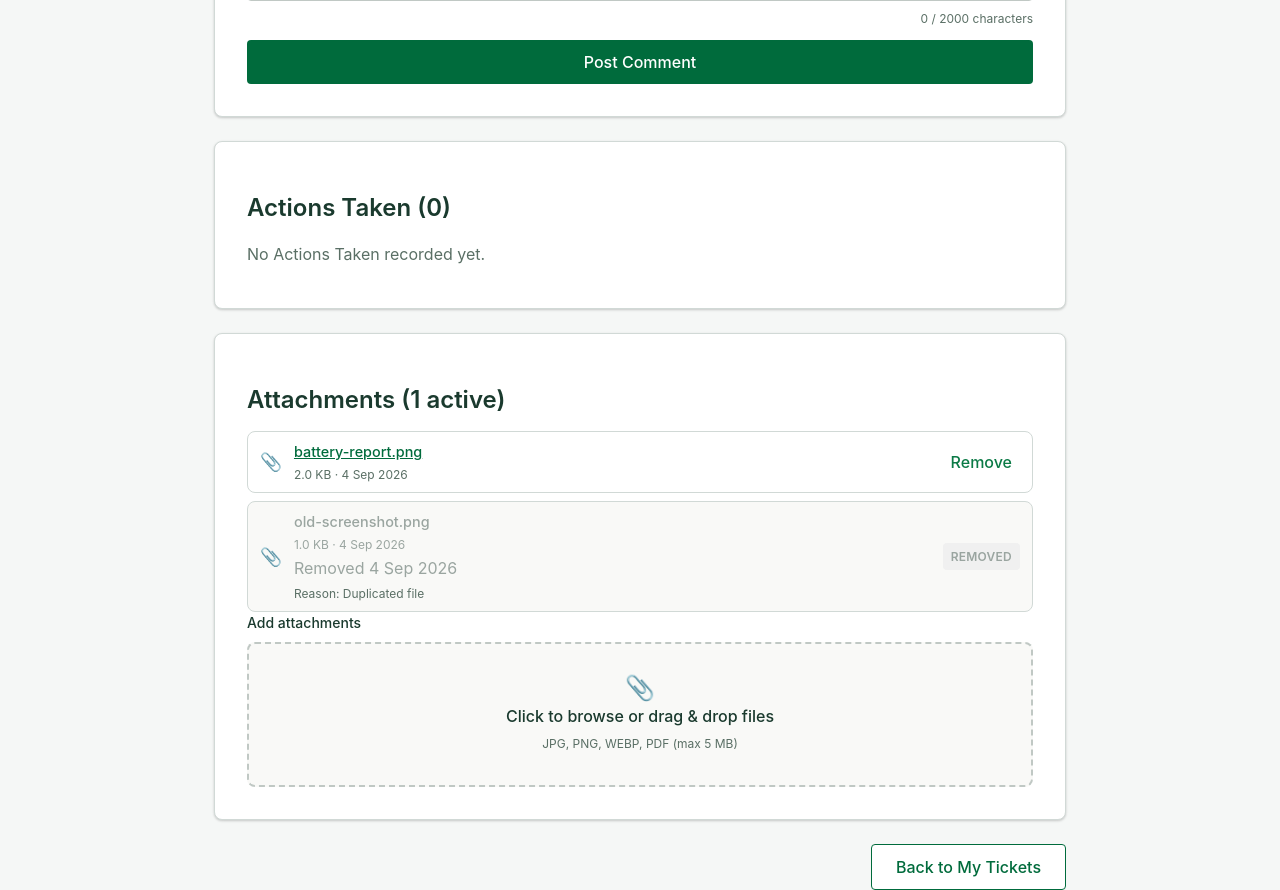
it: Requester regression under session identity (UI-10 - AC-20) › removes an attachment on the detail and shows the muted removed row
(page scrolled)
Expected: the heading with test id "attachment-count" reads "Attachments (1 active)", 247,385 -> 505,414
Expected: the list item with test id "attachment-removed-52" is shown, 247,501 -> 1033,612
Step 1. Click the button with test id "remove-attachment-btn" → [981, 462], box 943,448 -> 1020,476
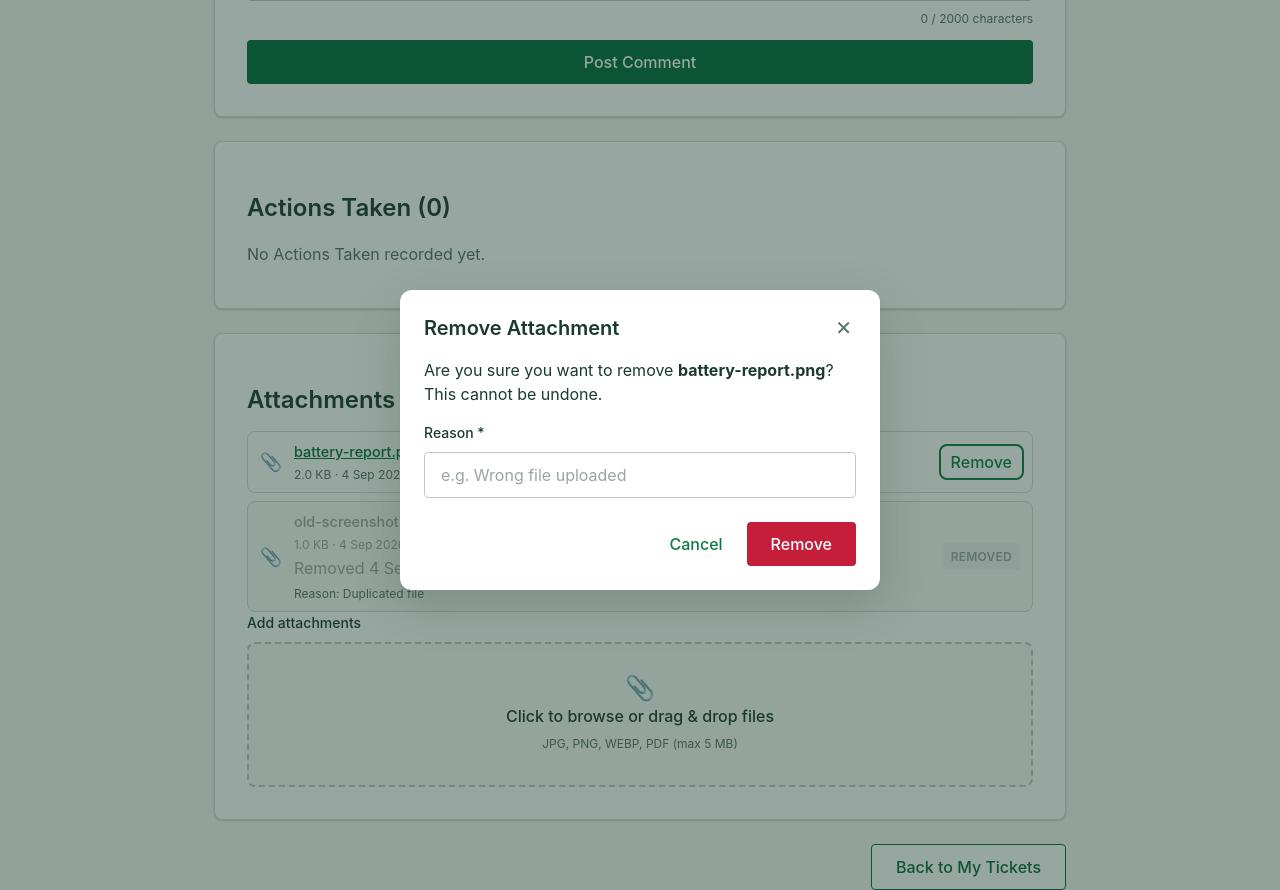
Step 2. Type "Duplicated file" into the field with test id "removal-reason" → [640, 475], box 424,452 -> 856,498
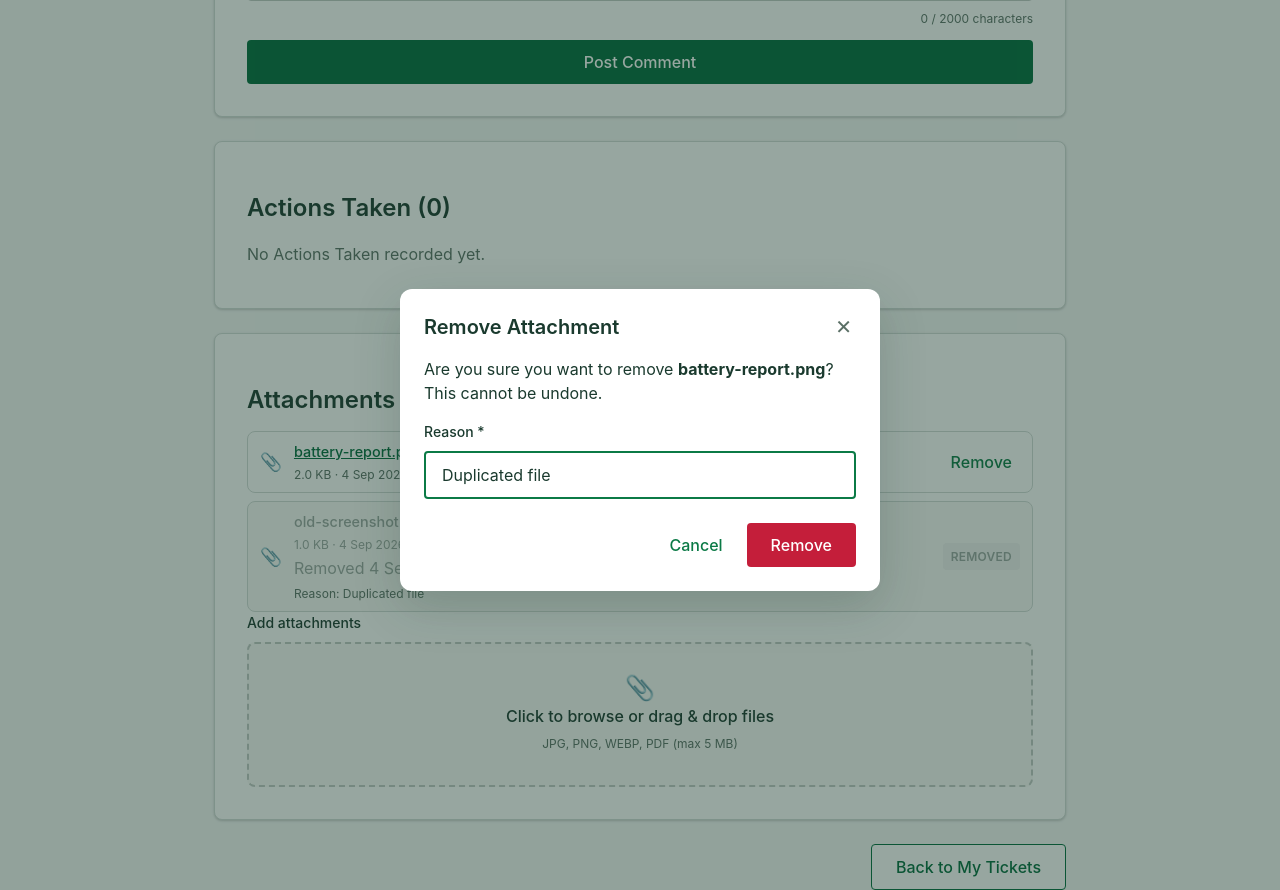
Step 3. Click the button with test id "confirm-remove-btn" → [801, 545], box 747,523 -> 856,567
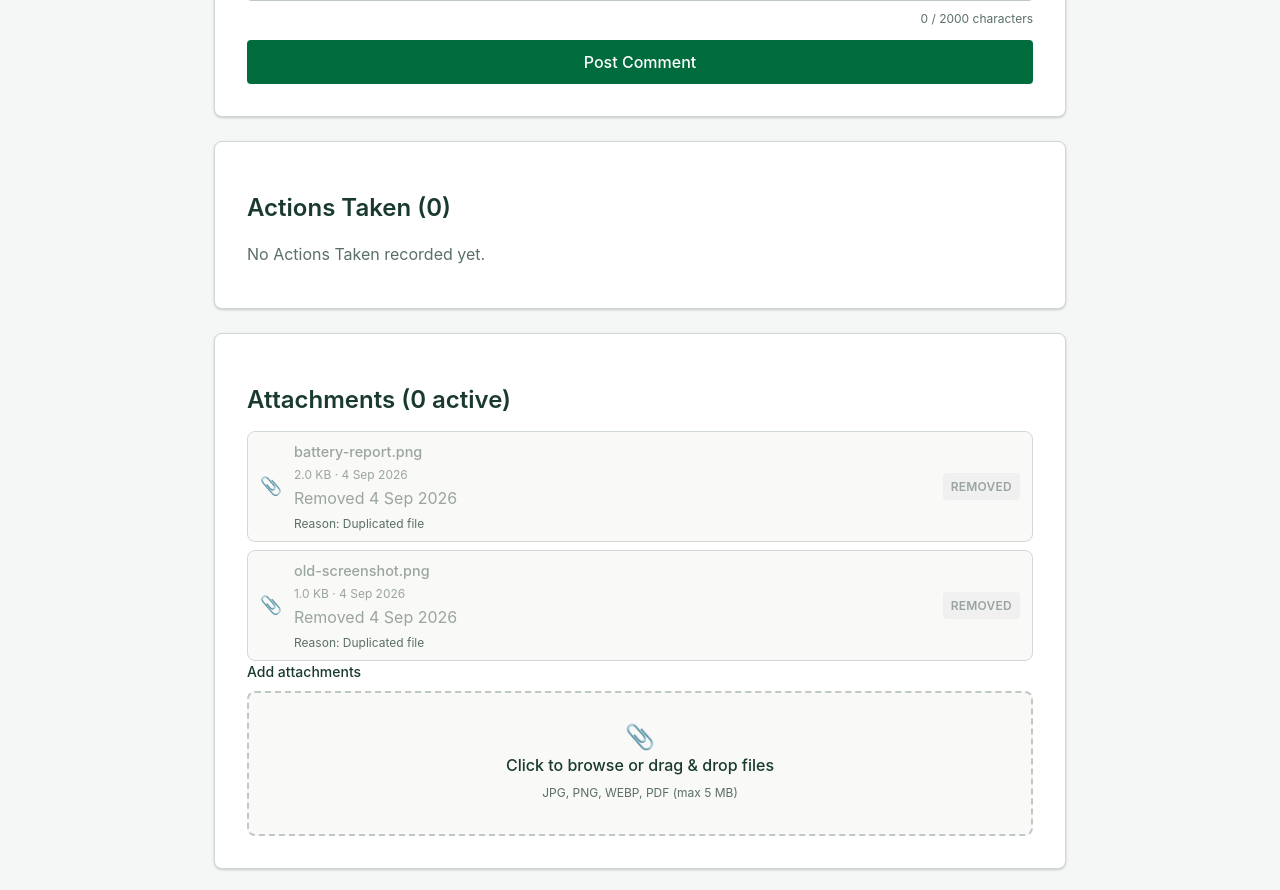
Expected: the list item with test id "attachment-removed-51" is shown, 247,431 -> 1033,542
Expected: the heading with test id "attachment-count" reads "Attachments (0 active)", 247,385 -> 511,414
